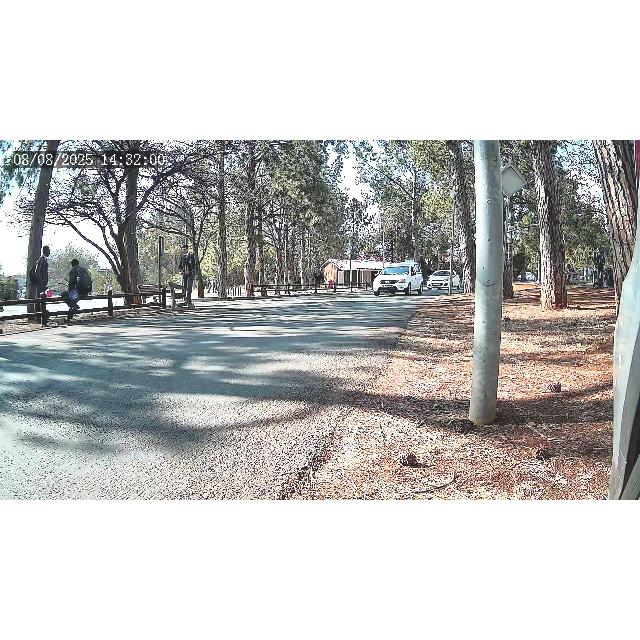car: (372, 262, 423, 296), (426, 268, 459, 292)
